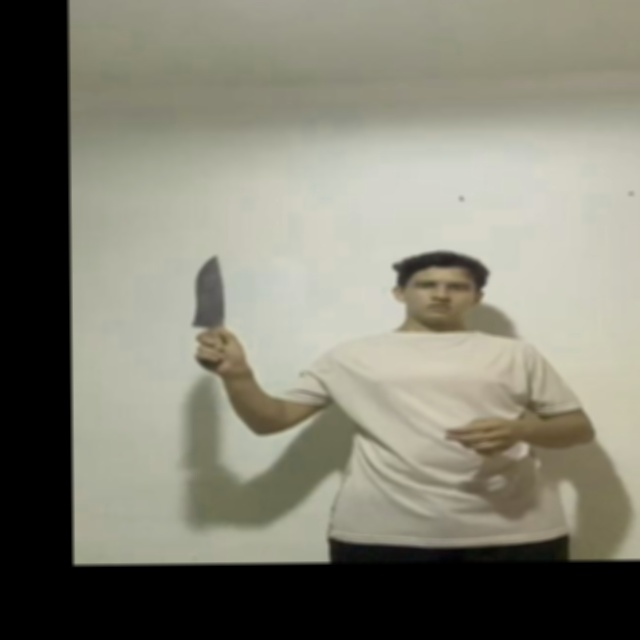Sharp-Object: (189, 255, 226, 326)
